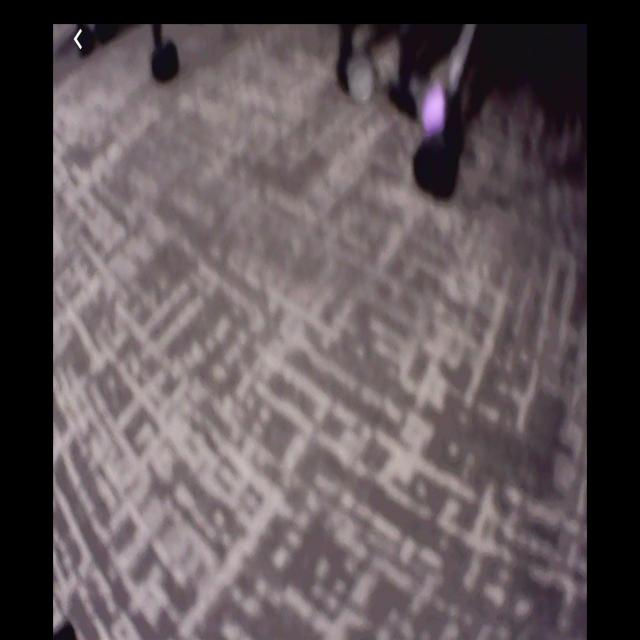ball: (420, 89, 450, 142)
